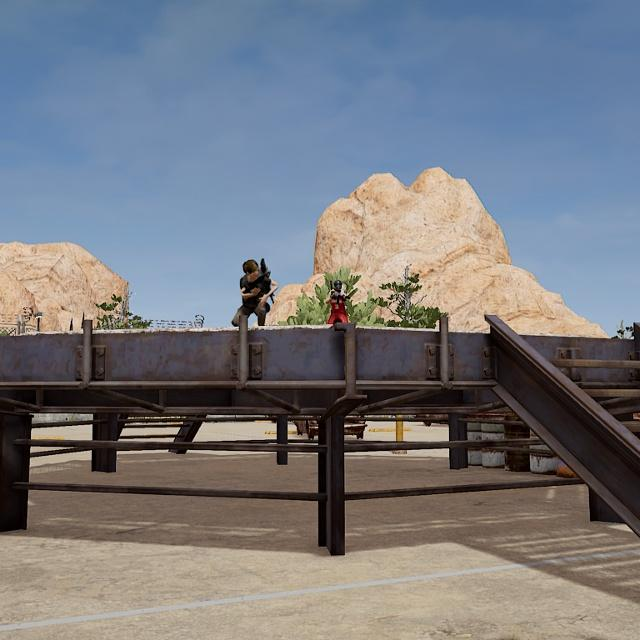head: (242, 258, 261, 281), (334, 279, 343, 292)
people: (231, 258, 279, 327), (325, 279, 351, 325)
